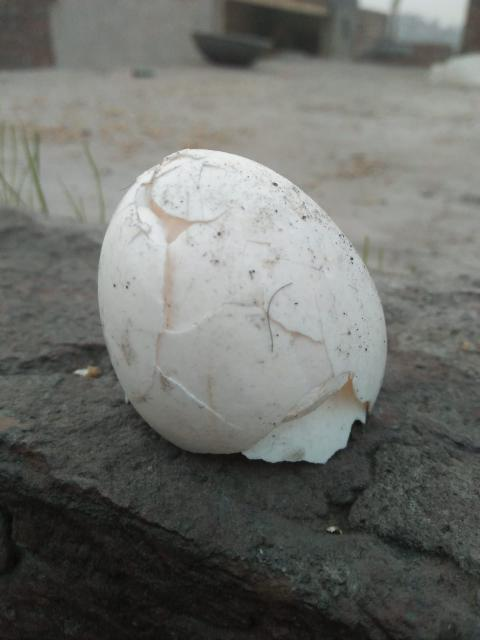Roto: (96, 146, 388, 465)
